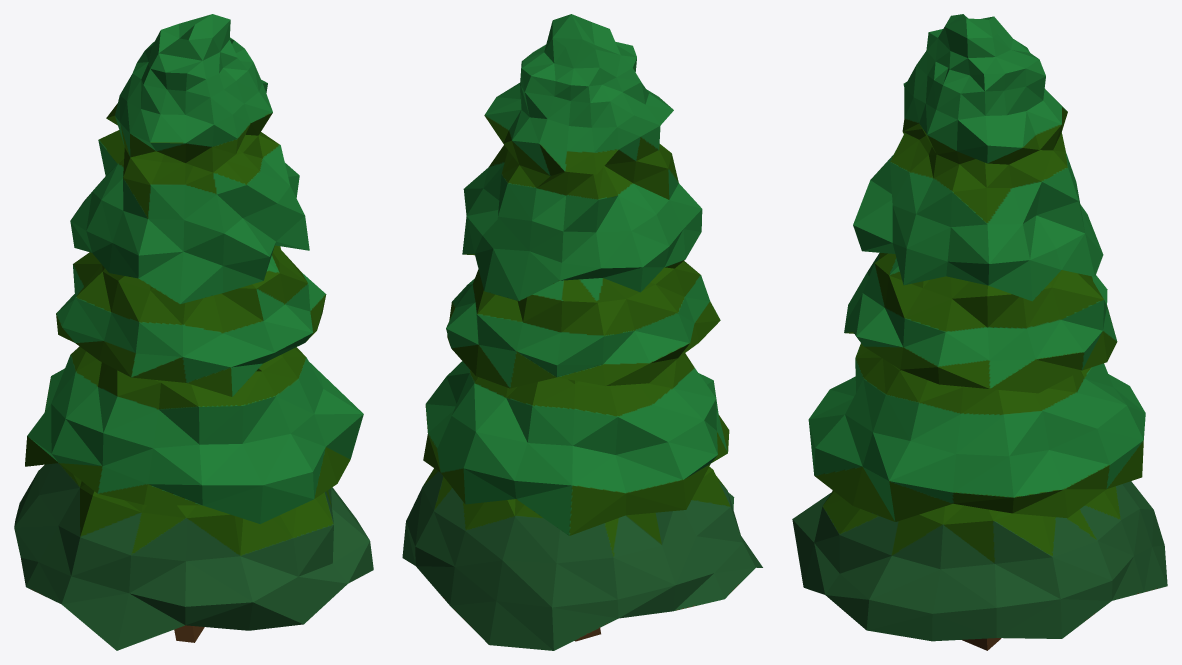
The picture shows the model from 3 angles, left to right: view 1: azimuth 30°, elevation 25°; view 2: azimuth 150°, elevation 25°; view 3: azimuth 270°, elevation 25°; orthographic projection. The views are drawn at different scales.
Parts seen in each view (by area): view 1: _1_tree__1_tree_0; view 2: _1_tree__1_tree_0; view 3: _1_tree__1_tree_0.
Part boxes in pixels (x1,y1,x2,y2): _1_tree__1_tree_0: [14, 14, 373, 650]; _1_tree__1_tree_0: [402, 14, 762, 650]; _1_tree__1_tree_0: [792, 14, 1167, 650].
Bounding box in the file's own units: 0.7483 × 1.45 × 0.7799.
Materials: 1 (1 with a texture image).
